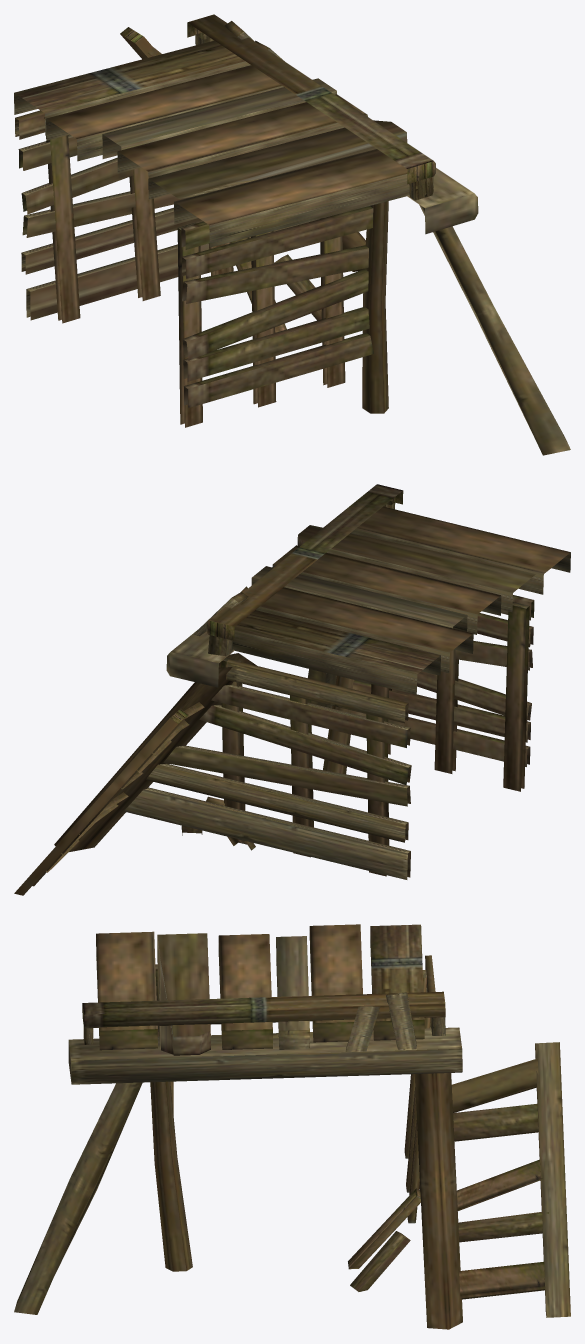
The model's file is S_Build_West058.FBX.
3 views of the same model, one above another, from view 1: azimuth 30°, elevation 25°; view 2: azimuth 150°, elevation 25°; view 3: azimuth 270°, elevation 25° (orthographic). The views are drawn at different scales.
Visible parts, largest first — view 1: S_Build_West058; view 2: S_Build_West058; view 3: S_Build_West058.
Boxes of the visible parts, box(x1,y1,x2,y2) form: S_Build_West058: box(14, 14, 570, 455); S_Build_West058: box(14, 484, 570, 895); S_Build_West058: box(14, 924, 570, 1329).
Bounding box in the file's own units: 429 × 606 × 322.
